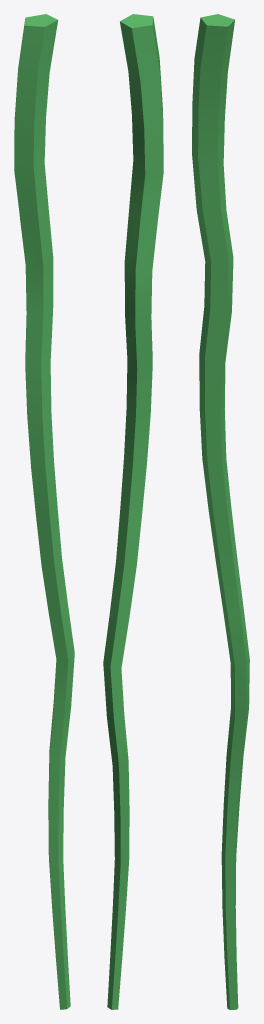
The model's file is roots_solo_B_A.fbx.
The picture shows the model from 3 angles, left to right: view 1: azimuth 30°, elevation 25°; view 2: azimuth 210°, elevation 25°; view 3: azimuth 330°, elevation 25°; orthographic projection.
Visible parts, largest first — view 1: roots_solo_B_A; view 2: roots_solo_B_A; view 3: roots_solo_B_A.
Part boxes in pixels (<box>): roots_solo_B_A: <box>14,14,74,1009</box>; roots_solo_B_A: <box>103,14,163,1009</box>; roots_solo_B_A: <box>192,14,249,1009</box>.
Size of the model in its own units: 24.74 by 406 by 11.96.
